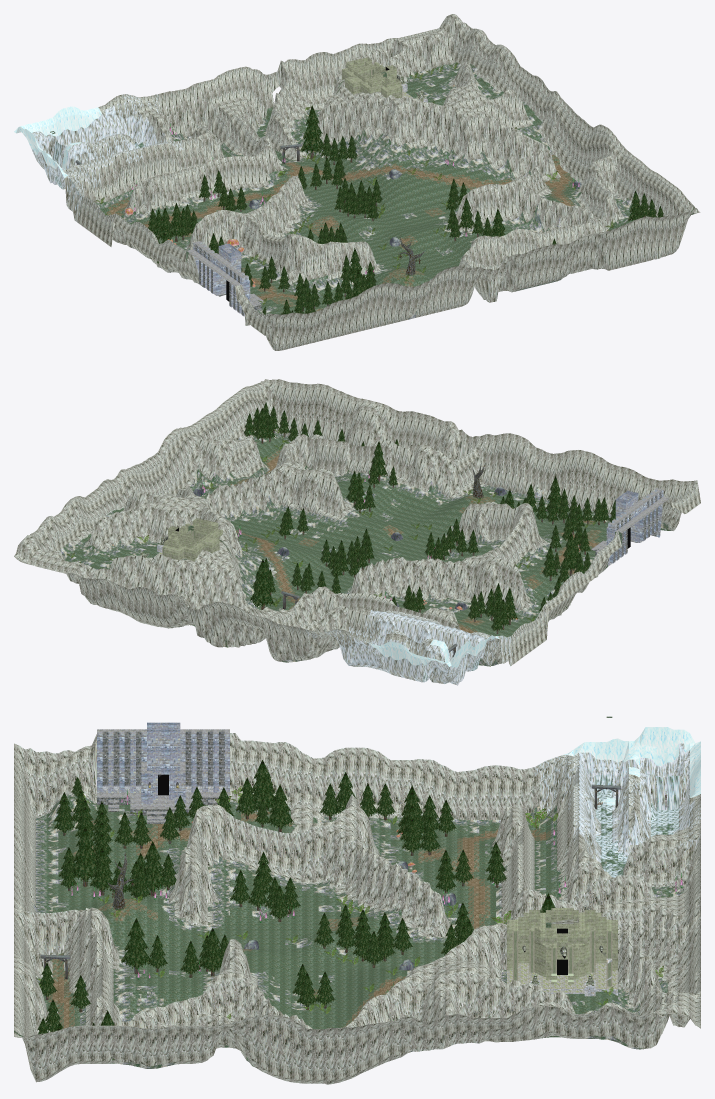
The model's file is ghstpass.gltf.
3 views of the same model, one above another, from view 1: azimuth 30°, elevation 25°; view 2: azimuth 150°, elevation 25°; view 3: azimuth 270°, elevation 25° (orthographic). The views are drawn at different scales.
Size of the model in its own units: 124 by 20 by 124.
Materials: 35 (35 with a texture image).
